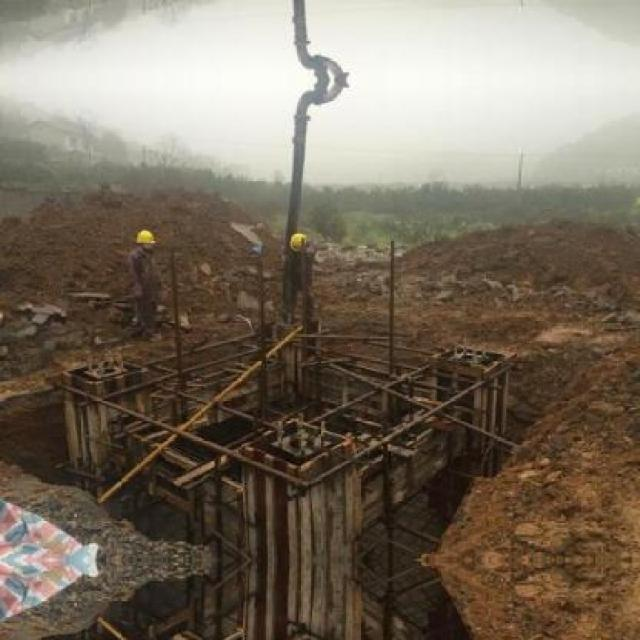helmet: (132, 226, 160, 254), (286, 232, 314, 254)
